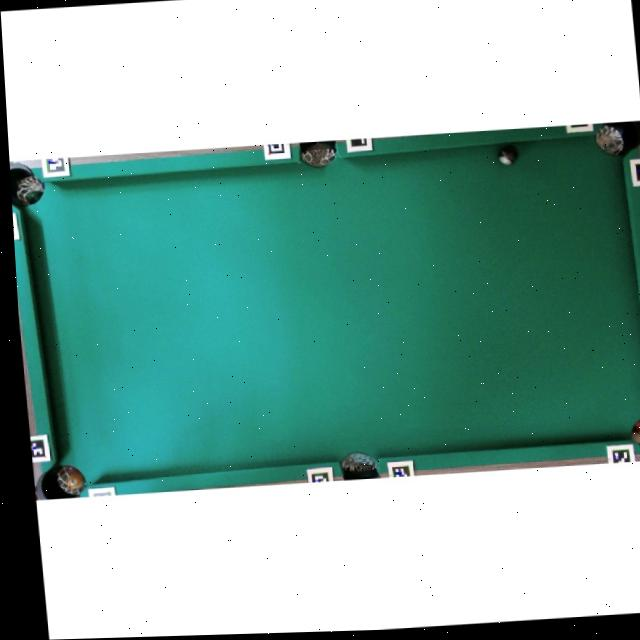other: (496, 144, 519, 166)
